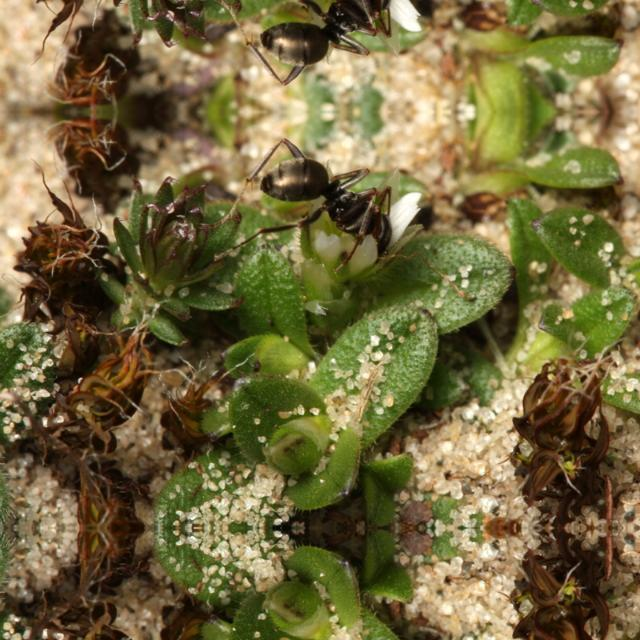Formica: (246, 133, 409, 267), (245, 0, 408, 90)
